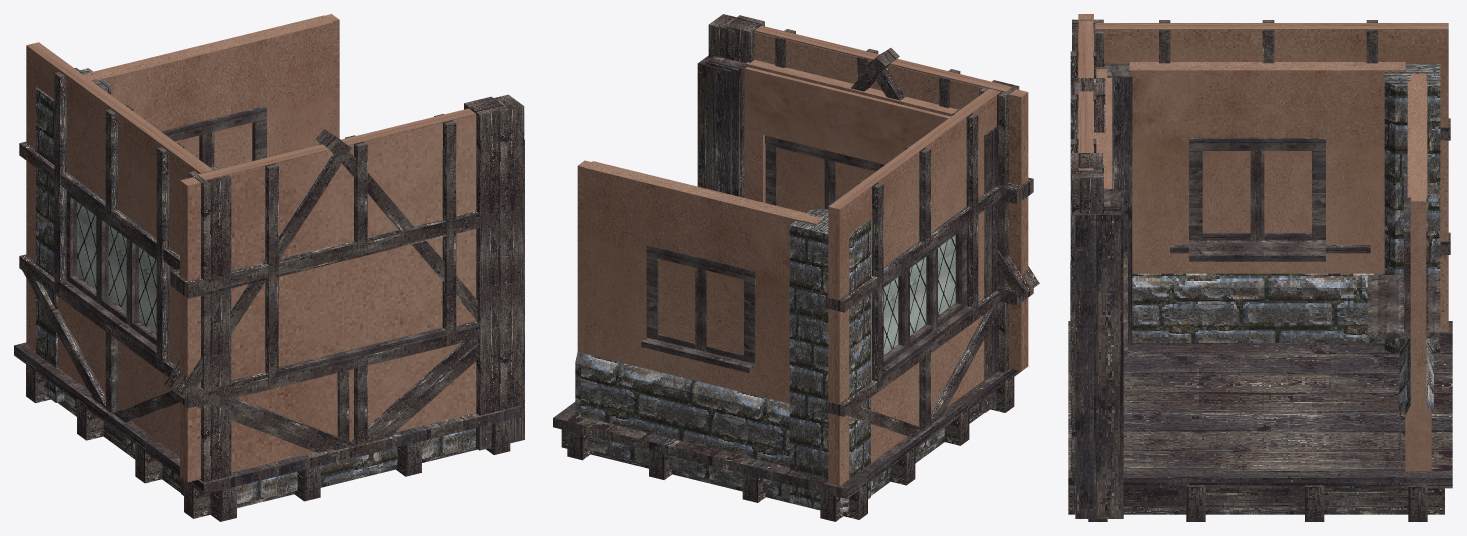
The model's file is blocks.glb.
3 renders of one model, left to right at view 1: azimuth 30°, elevation 25°; view 2: azimuth 150°, elevation 25°; view 3: azimuth 270°, elevation 25°, orthographic. The views are drawn at different scales.
Visible parts, largest first — view 1: WallCornerUpper.002, UpperFloorWall.001, GroundfloorCornenerWindow, FloorUpperCorner.001, GroundfloorCornener, Wall B Door.001, Wall C Window Large.001; view 2: GroundfloorCornenerWindow, WallCornerUpper.002, GroundfloorCornener, Wall C Window Large.001, FloorUpperCorner.001, UpperFloorWall.001, GroundFloorWall, Wall B Door.001; view 3: GroundfloorCornener, FloorUpperCorner.001, GroundfloorCornenerWindow, WallCornerUpper.002, Wall C Window Large.001, UpperFloorWall.001, GroundFloorWall.
Boxes of the visible parts, box(x1,y1,x2,y2) form: WallCornerUpper.002: box(19, 42, 524, 482); UpperFloorWall.001: box(164, 96, 507, 482); GroundfloorCornenerWindow: box(88, 15, 333, 338); FloorUpperCorner.001: box(14, 342, 521, 521); GroundfloorCornener: box(36, 14, 339, 495); Wall B Door.001: box(237, 418, 518, 504); Wall C Window Large.001: box(320, 139, 524, 482); GroundfloorCornenerWindow: box(581, 161, 956, 498); WallCornerUpper.002: box(708, 14, 1019, 485); GroundfloorCornener: box(575, 126, 998, 512); Wall C Window Large.001: box(697, 55, 950, 209); FloorUpperCorner.001: box(553, 369, 1021, 521); UpperFloorWall.001: box(725, 15, 1039, 371); GroundFloorWall: box(708, 56, 959, 212); Wall B Door.001: box(705, 61, 739, 196); GroundfloorCornener: box(1096, 62, 1440, 471); FloorUpperCorner.001: box(1068, 321, 1452, 521); GroundfloorCornenerWindow: box(1130, 70, 1440, 463); WallCornerUpper.002: box(1070, 19, 1450, 485); Wall C Window Large.001: box(1075, 77, 1127, 518); UpperFloorWall.001: box(1071, 14, 1105, 471); GroundFloorWall: box(1074, 69, 1118, 513).
Bounding box in the file's own units: 5.26 × 5.07 × 4.99.
Materials: 4 (4 with a texture image).
